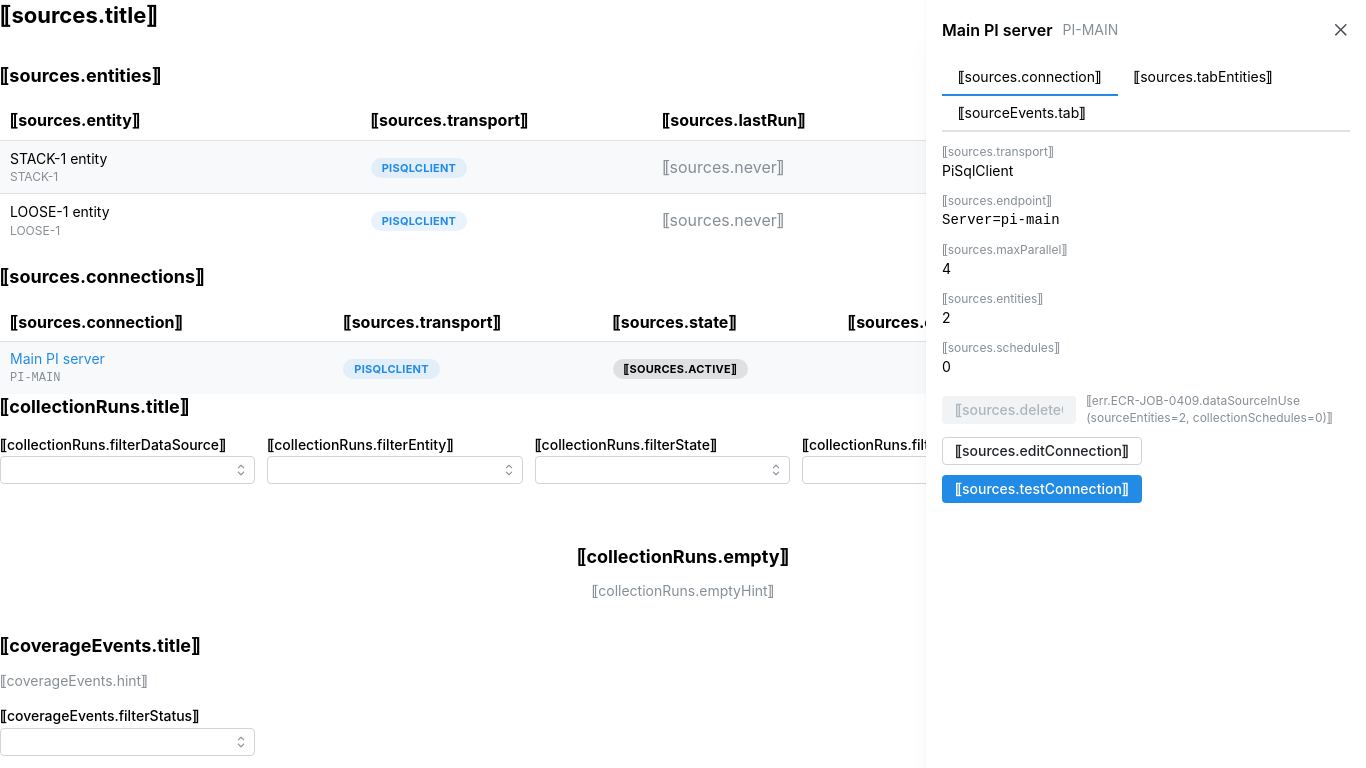
it: D-212: політика синку довідника з AF › грант Read на довідник — кнопки немає
The width and height of the screenshot is (1366, 768).
Click the tab "⟦sources.tabEntities⟧". click: coordinates (1203, 78)
box: x1=1118 y1=60 x2=1289 y2=96
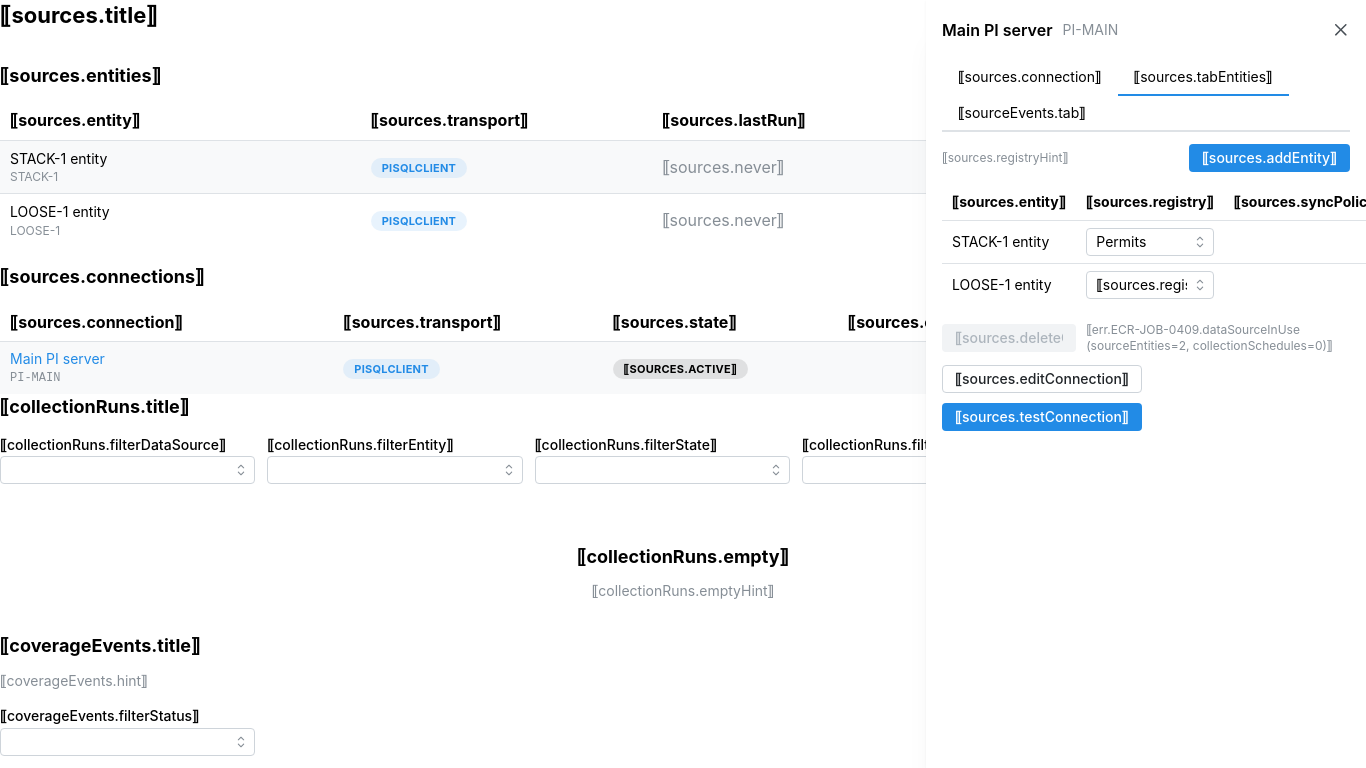
Expected: the row "STACK-1 entity" is shown, x1=942 y1=220 x2=1365 y2=263
Expected: the 1st field named "⟦sources.registry⟧" is shown, x1=1086 y1=228 x2=1214 y2=256
